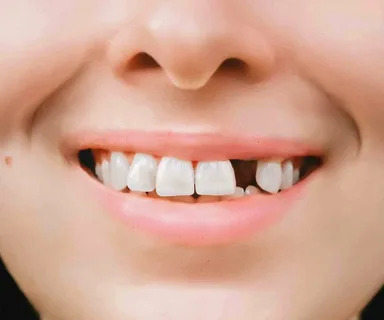Missing: (197, 153, 283, 192)
